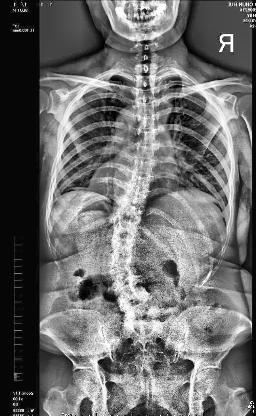Vertebrae: (115, 286, 153, 312), (106, 263, 138, 290), (126, 313, 160, 335), (116, 214, 142, 232), (112, 231, 136, 249), (135, 114, 157, 130), (130, 173, 152, 189), (132, 158, 156, 172), (124, 188, 148, 202), (110, 249, 134, 263), (136, 86, 156, 102), (134, 130, 160, 142), (120, 203, 146, 215), (134, 100, 156, 114), (134, 144, 158, 156)
